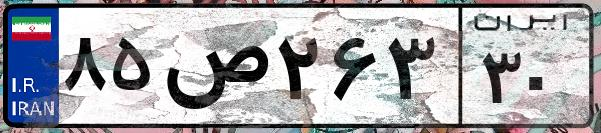0: (525, 38, 570, 115)
2: (270, 28, 330, 110)
3: (385, 28, 445, 110), (475, 38, 525, 113)
5: (110, 28, 158, 98)
6: (330, 28, 385, 110)
8: (57, 26, 110, 100)
ص: (158, 20, 270, 120)
